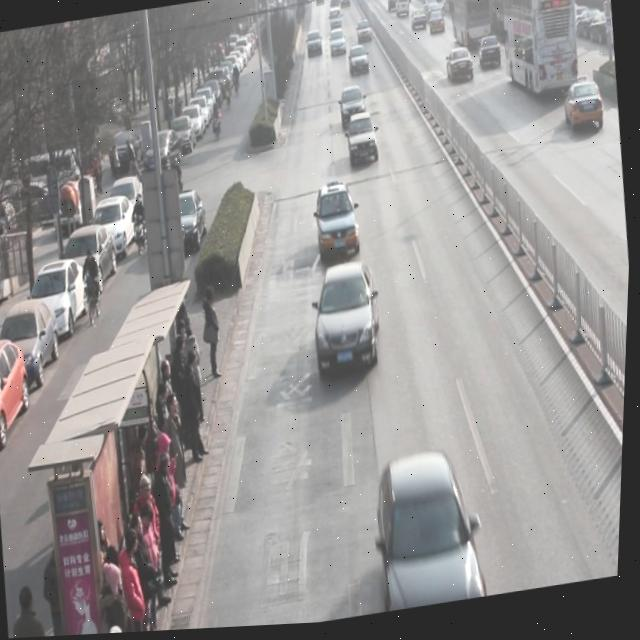car: (372, 451, 494, 617), (308, 262, 388, 382), (313, 184, 364, 266), (562, 85, 607, 139), (345, 113, 381, 171), (339, 87, 370, 135), (444, 51, 476, 92), (477, 38, 504, 76), (347, 48, 371, 82), (328, 30, 348, 62)
van: (498, 0, 584, 112), (447, 0, 495, 58)
